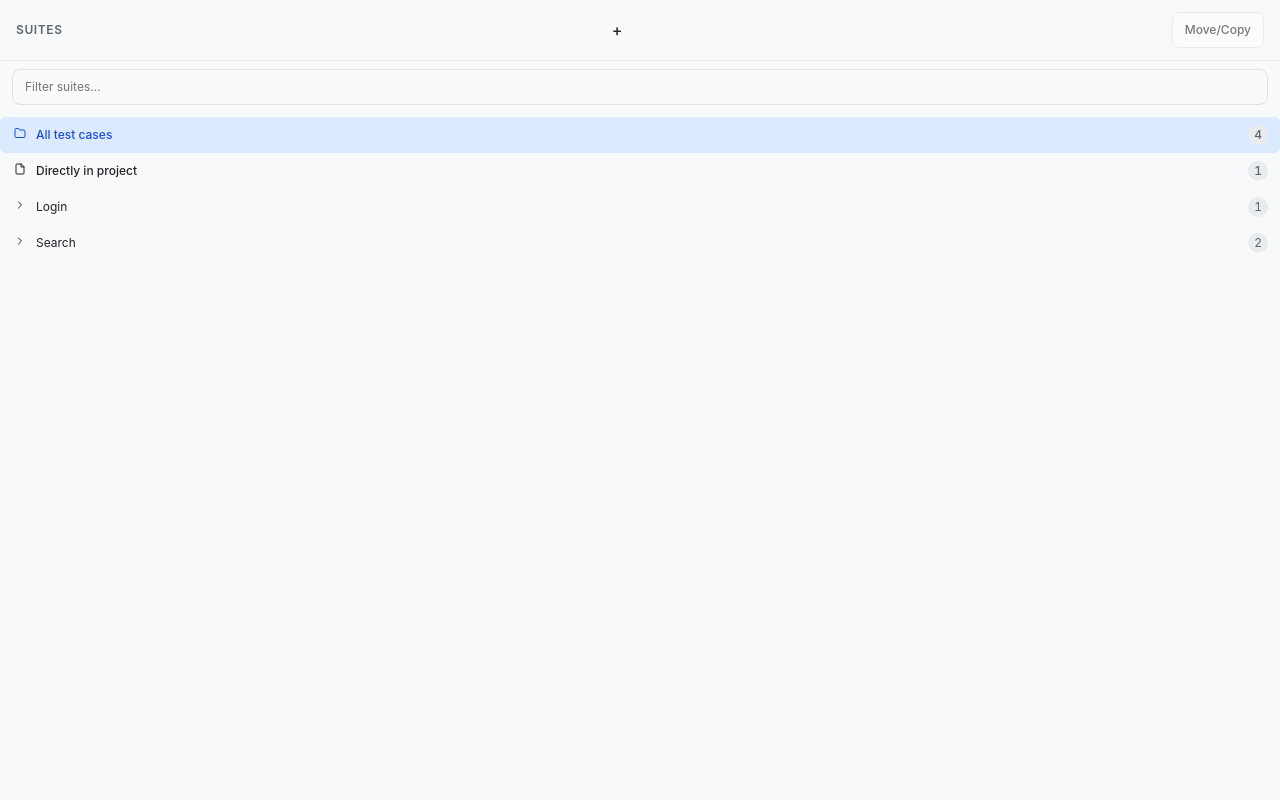
SuiteTree › shows the API error envelope and keeps the dialog open when creation is rejected
Expected: the button "Login 1" is shown, [0,189,1279,225]
Click the button named "New suite".
click(617, 30)  # box [603,15,632,45]
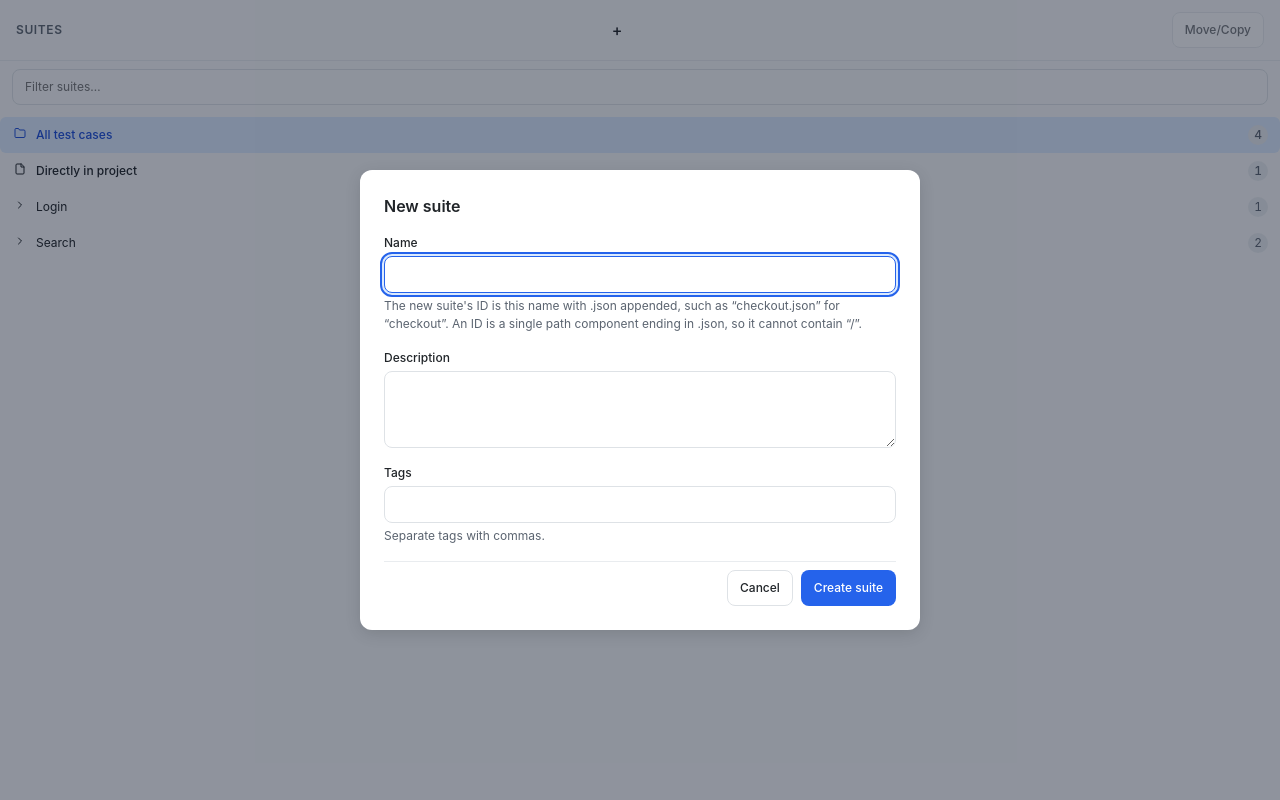
Type "Login" into the field labelled "Name".
click(640, 275); type("Login")  # box [384,256,896,293]
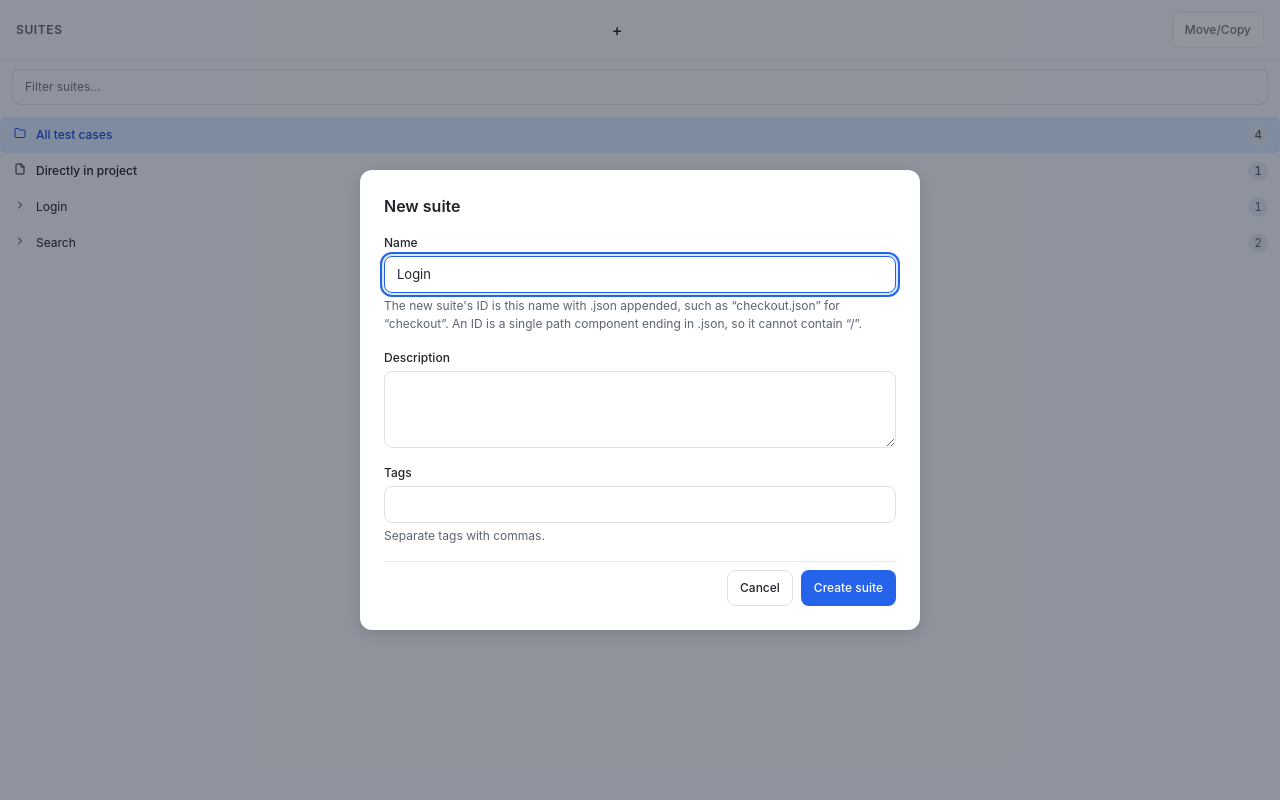
Submit the form named "Create suite form", box [384,234,896,606]
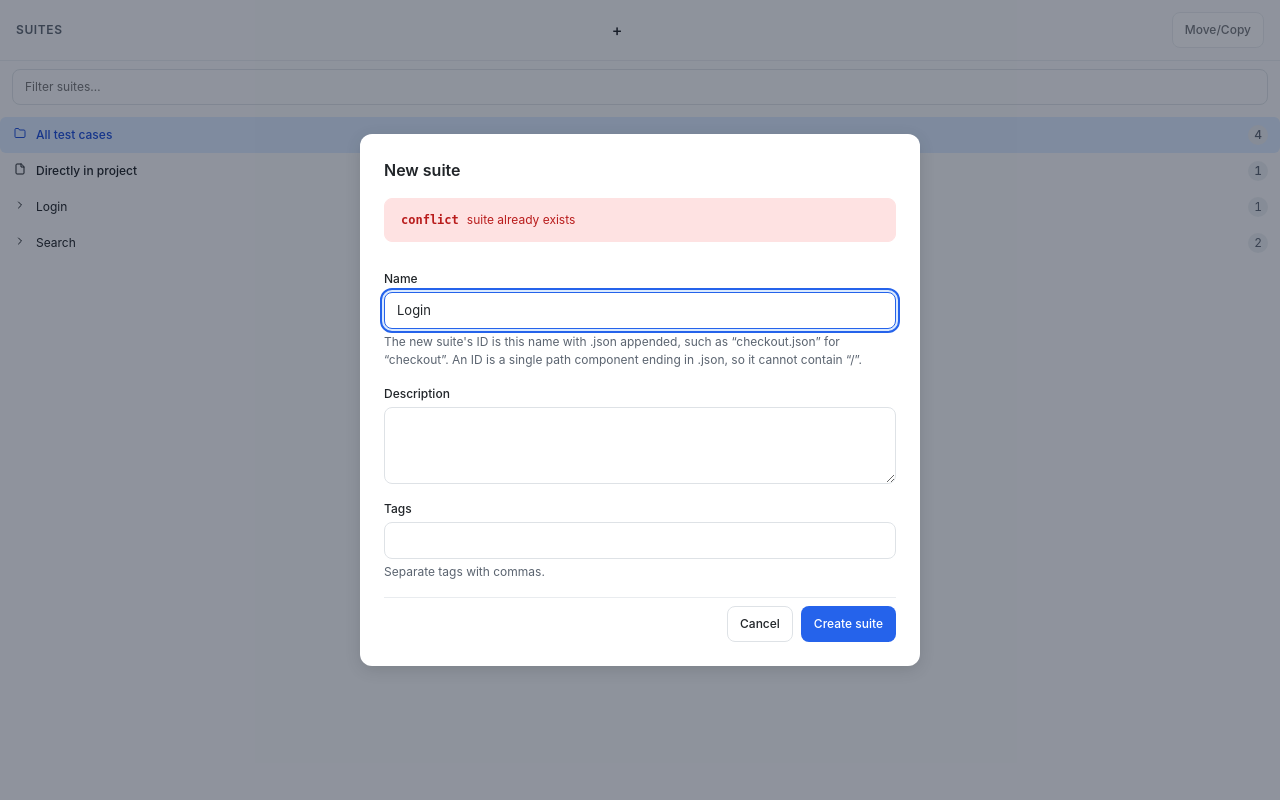
Result: the dialog "New suite" is shown at [360,134,920,666]
Result: the message shows "conflict" at [401,213,459,227]
Result: the message shows "suite already exists" at [467,212,575,227]
